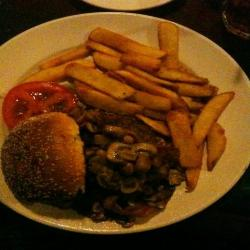burger: (1, 112, 90, 209)
fries: (78, 36, 228, 159)
